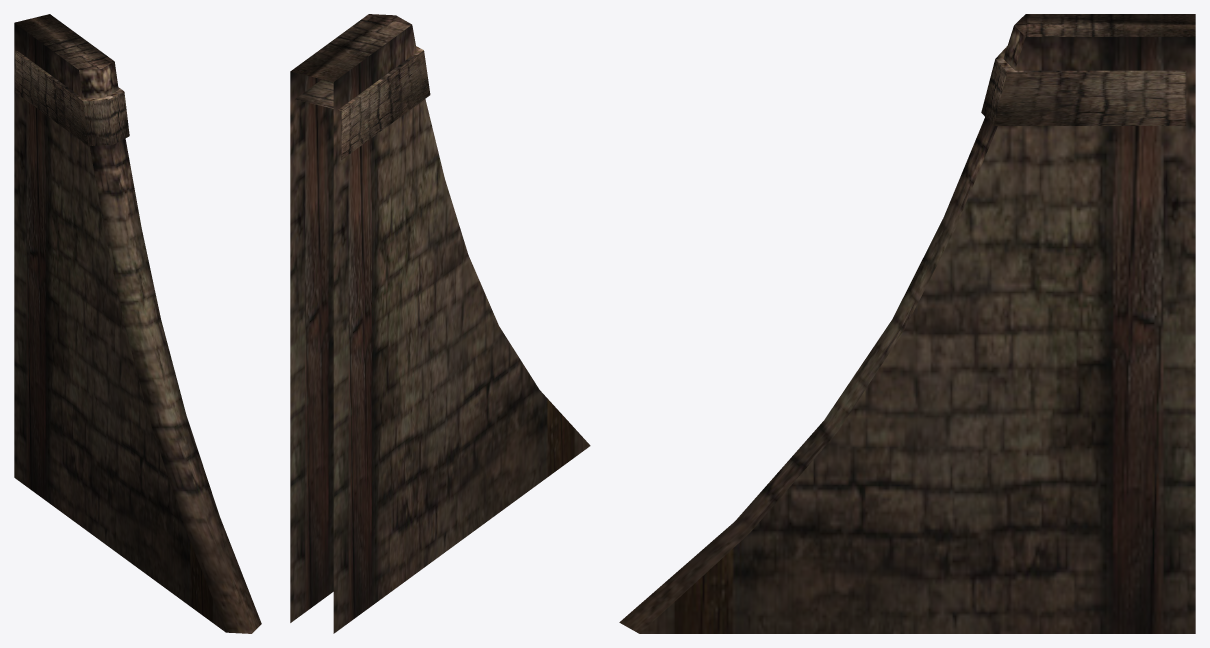
File: wall014.fbx
The picture shows the model from 3 angles, left to right: view 1: azimuth 30°, elevation 25°; view 2: azimuth 150°, elevation 25°; view 3: azimuth 270°, elevation 25°; orthographic projection. The views are drawn at different scales.
Parts seen in each view (by area): view 1: wall014; view 2: wall014; view 3: wall014.
Part boxes in pixels (x1,y1,x2,y2): wall014: (14, 14, 261, 633); wall014: (290, 14, 590, 633); wall014: (619, 14, 1195, 633).
Bounding box in the file's own units: 128 × 1351 × 1183.
